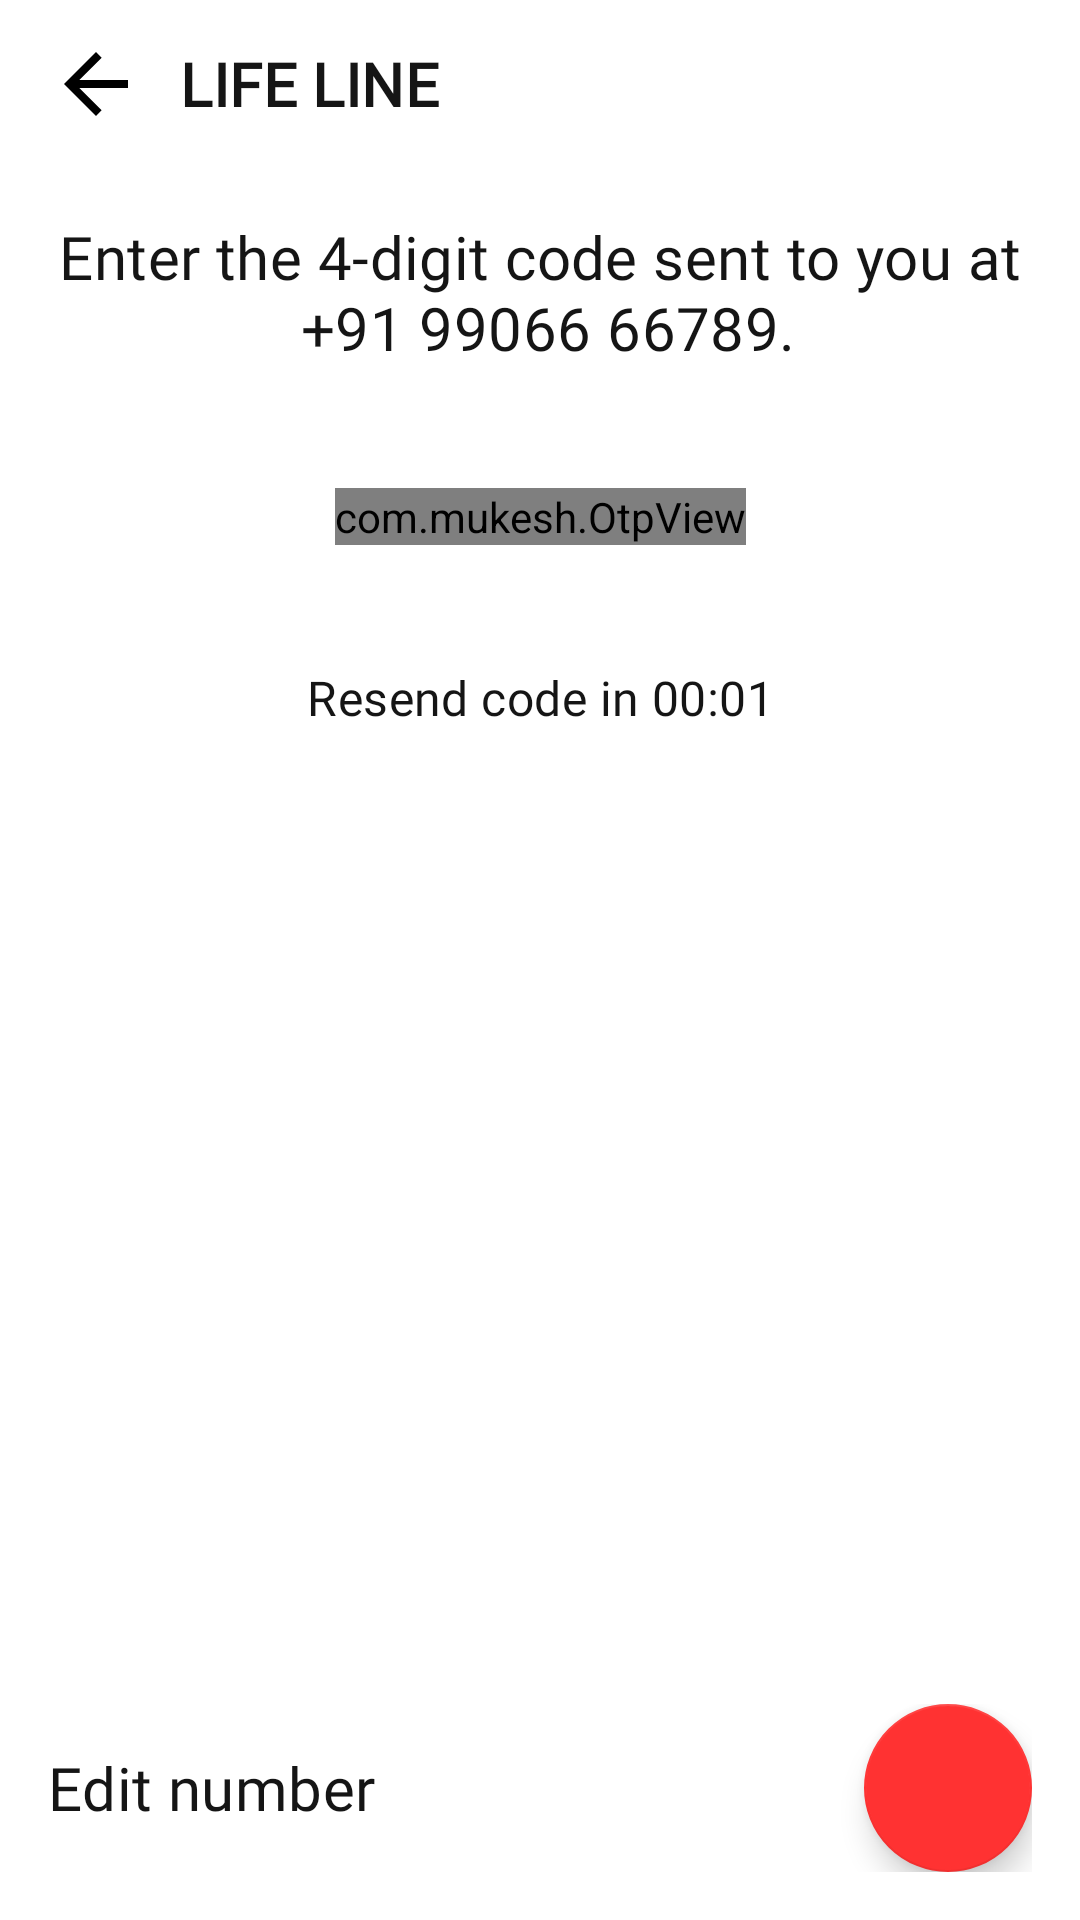

Screen size 1080*1920. Icon name, then its box in pixels as (x1, y1, x2, y2):
arrow back: (64, 52, 128, 116)
